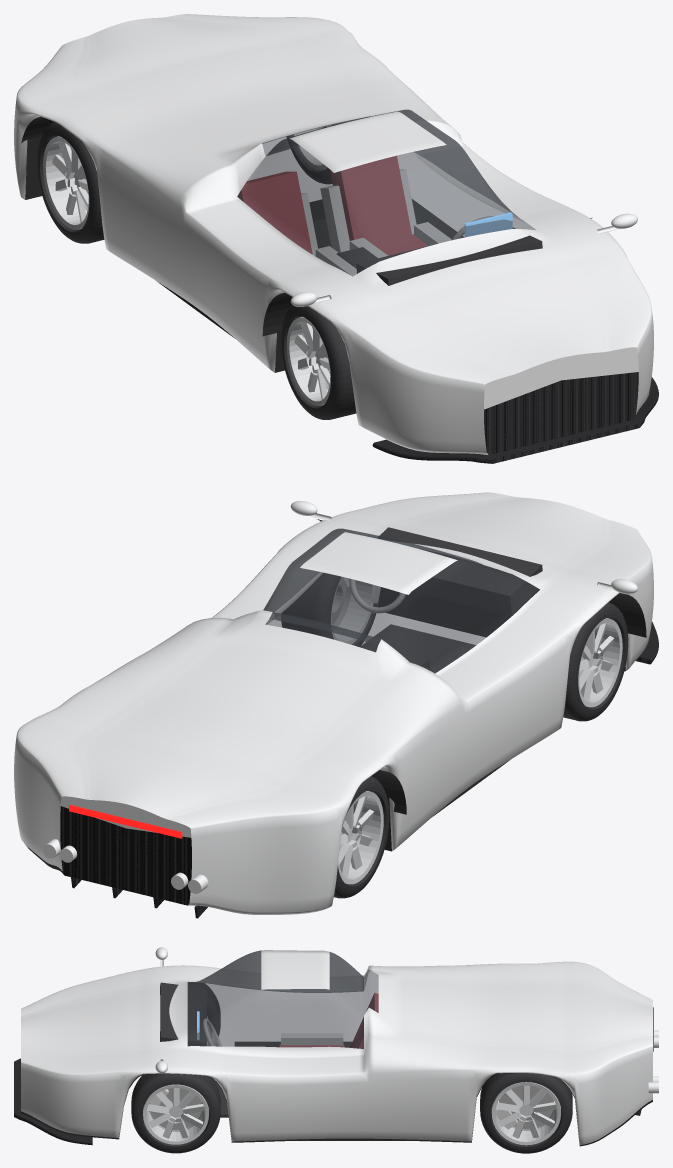
The model's file is lamborghini-countach-lpi-800-4.glb.
3 renders of one model, top to bottom at view 1: azimuth 30°, elevation 25°; view 2: azimuth 150°, elevation 25°; view 3: azimuth 270°, elevation 25°, orthographic. The views are drawn at different scales.
Visible parts, largest first — view 1: Body_PrimaryPaint, Glass_Windows, Carbon_Exterior, Interior_Seats, Interior_SeatBolsters, Tire_FR, Rim_RR, Rim_FR, Tire_RR, WheelWells, Interior_Dashboard, Underbody (+1 smaller); view 2: Body_PrimaryPaint, Glass_Windows, Carbon_Exterior, Interior_Dashboard, Underbody, Rim_RR, Rim_FR, Tire_FR, Interior_Tub, Tire_FL, WheelWells, Tire_RR (+4 smaller); view 3: Body_PrimaryPaint, Glass_Windows, Tire_FL, Tire_RL, Rim_RL, Rim_FL, Interior_Dashboard, Underbody, Carbon_Exterior, Interior_SeatBolsters, BrakeDisc_RL, BrakeDisc_FL (+4 smaller).
Boxes of the visible parts, left/top/right/bottom form: Body_PrimaryPaint: left=14, top=14, right=653, bottom=454; Glass_Windows: left=237, top=109, right=535, bottom=276; Carbon_Exterior: left=372, top=372, right=658, bottom=463; Interior_Seats: left=237, top=155, right=428, bottom=255; Interior_SeatBolsters: left=301, top=169, right=451, bottom=276; Tire_FR: left=281, top=305, right=356, bottom=419; Rim_RR: left=43, top=136, right=89, bottom=229; Rim_FR: left=286, top=316, right=330, bottom=405; Tire_RR: left=37, top=122, right=104, bottom=243; WheelWells: left=21, top=117, right=592, bottom=338; Interior_Dashboard: left=356, top=227, right=542, bottom=285; Underbody: left=25, top=136, right=644, bottom=413; Body_PrimaryPaint: left=14, top=492, right=653, bottom=914; Glass_Windows: left=263, top=528, right=539, bottom=673; Carbon_Exterior: left=60, top=621, right=658, bottom=918; Interior_Dashboard: left=378, top=527, right=542, bottom=615; Underbody: left=26, top=587, right=625, bottom=874; Rim_RR: left=338, top=791, right=383, bottom=884; Rim_FR: left=578, top=618, right=622, bottom=707; Tire_FR: left=563, top=602, right=628, bottom=721; Interior_Tub: left=360, top=624, right=475, bottom=673; Tire_FL: left=281, top=573, right=380, bottom=646; WheelWells: left=317, top=519, right=646, bottom=816; Tire_RR: left=334, top=776, right=389, bottom=898; Body_PrimaryPaint: left=21, top=947, right=652, bottom=1144; Glass_Windows: left=187, top=950, right=378, bottom=1048; Tire_FL: left=131, top=1074, right=220, bottom=1153; Tire_RL: left=480, top=1073, right=572, bottom=1153; Rim_RL: left=491, top=1082, right=560, bottom=1145; Rim_FL: left=143, top=1084, right=208, bottom=1144; Interior_Dashboard: left=160, top=982, right=206, bottom=1046; Underbody: left=21, top=1073, right=652, bottom=1146; Carbon_Exterior: left=14, top=1058, right=641, bottom=1145; Interior_SeatBolsters: left=281, top=1033, right=343, bottom=1045; BrakeDisc_RL: left=499, top=1085, right=553, bottom=1131; BrakeDisc_FL: left=150, top=1088, right=202, bottom=1131.
Bounding box in the file's own units: 2.23 × 1.14 × 4.97.
16 materials, 2 textured.
